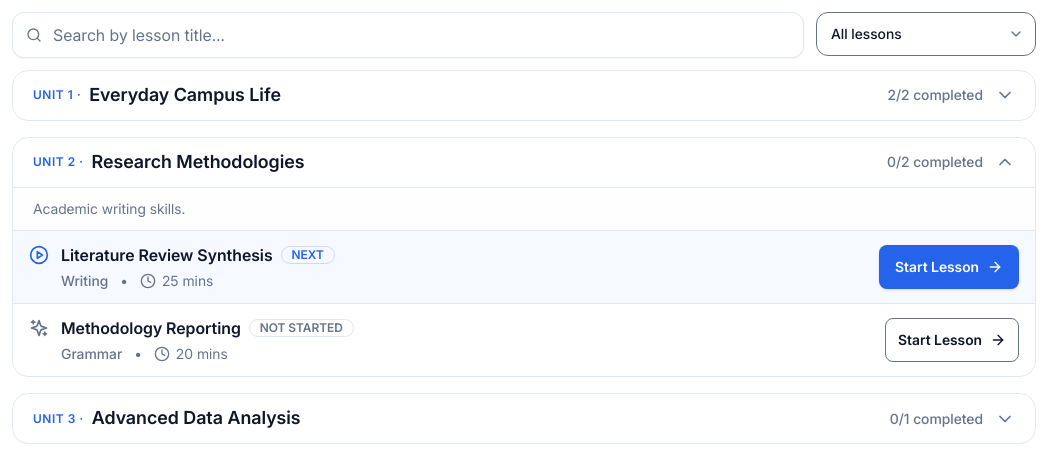
LearnPage (P10.2) › filters lessons by status and auto-expands matching units
The width and height of the screenshot is (1048, 461).
Select "Completed lessons" in the dropdown named "filter by status". click: (926, 34)
box: [816,12,1036,56]
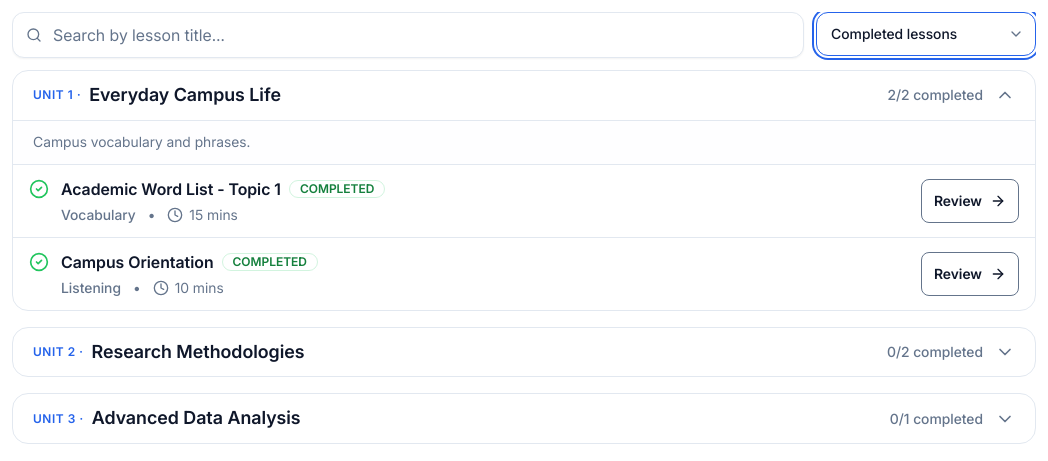
Expected: the button "Unit 1 · Everyday Campus Life 2/2 completed" is expanded, [13,71,1035,120]
Expected: the text "Academic Word List - Topic 1" is shown, [61,176,281,200]
Expected: the text "Campus Orientation" is shown, [61,250,214,274]
Select "Locked lessons" in the dropdown named "filter by status". click: (926, 34)
box: [816,12,1036,56]
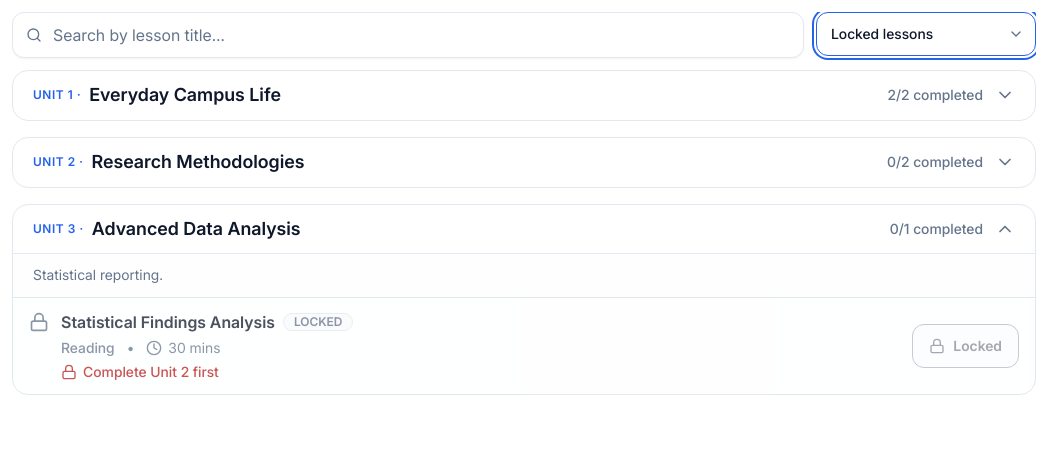
Expected: the button "Unit 3 · Advanced Data Analysis 0/1 completed" is expanded, [13,204,1035,253]
Expected: the text "Statistical Findings Analysis" is shown, [61,310,275,334]
Expected: the text "Academic Word List - Topic 1" is gone
